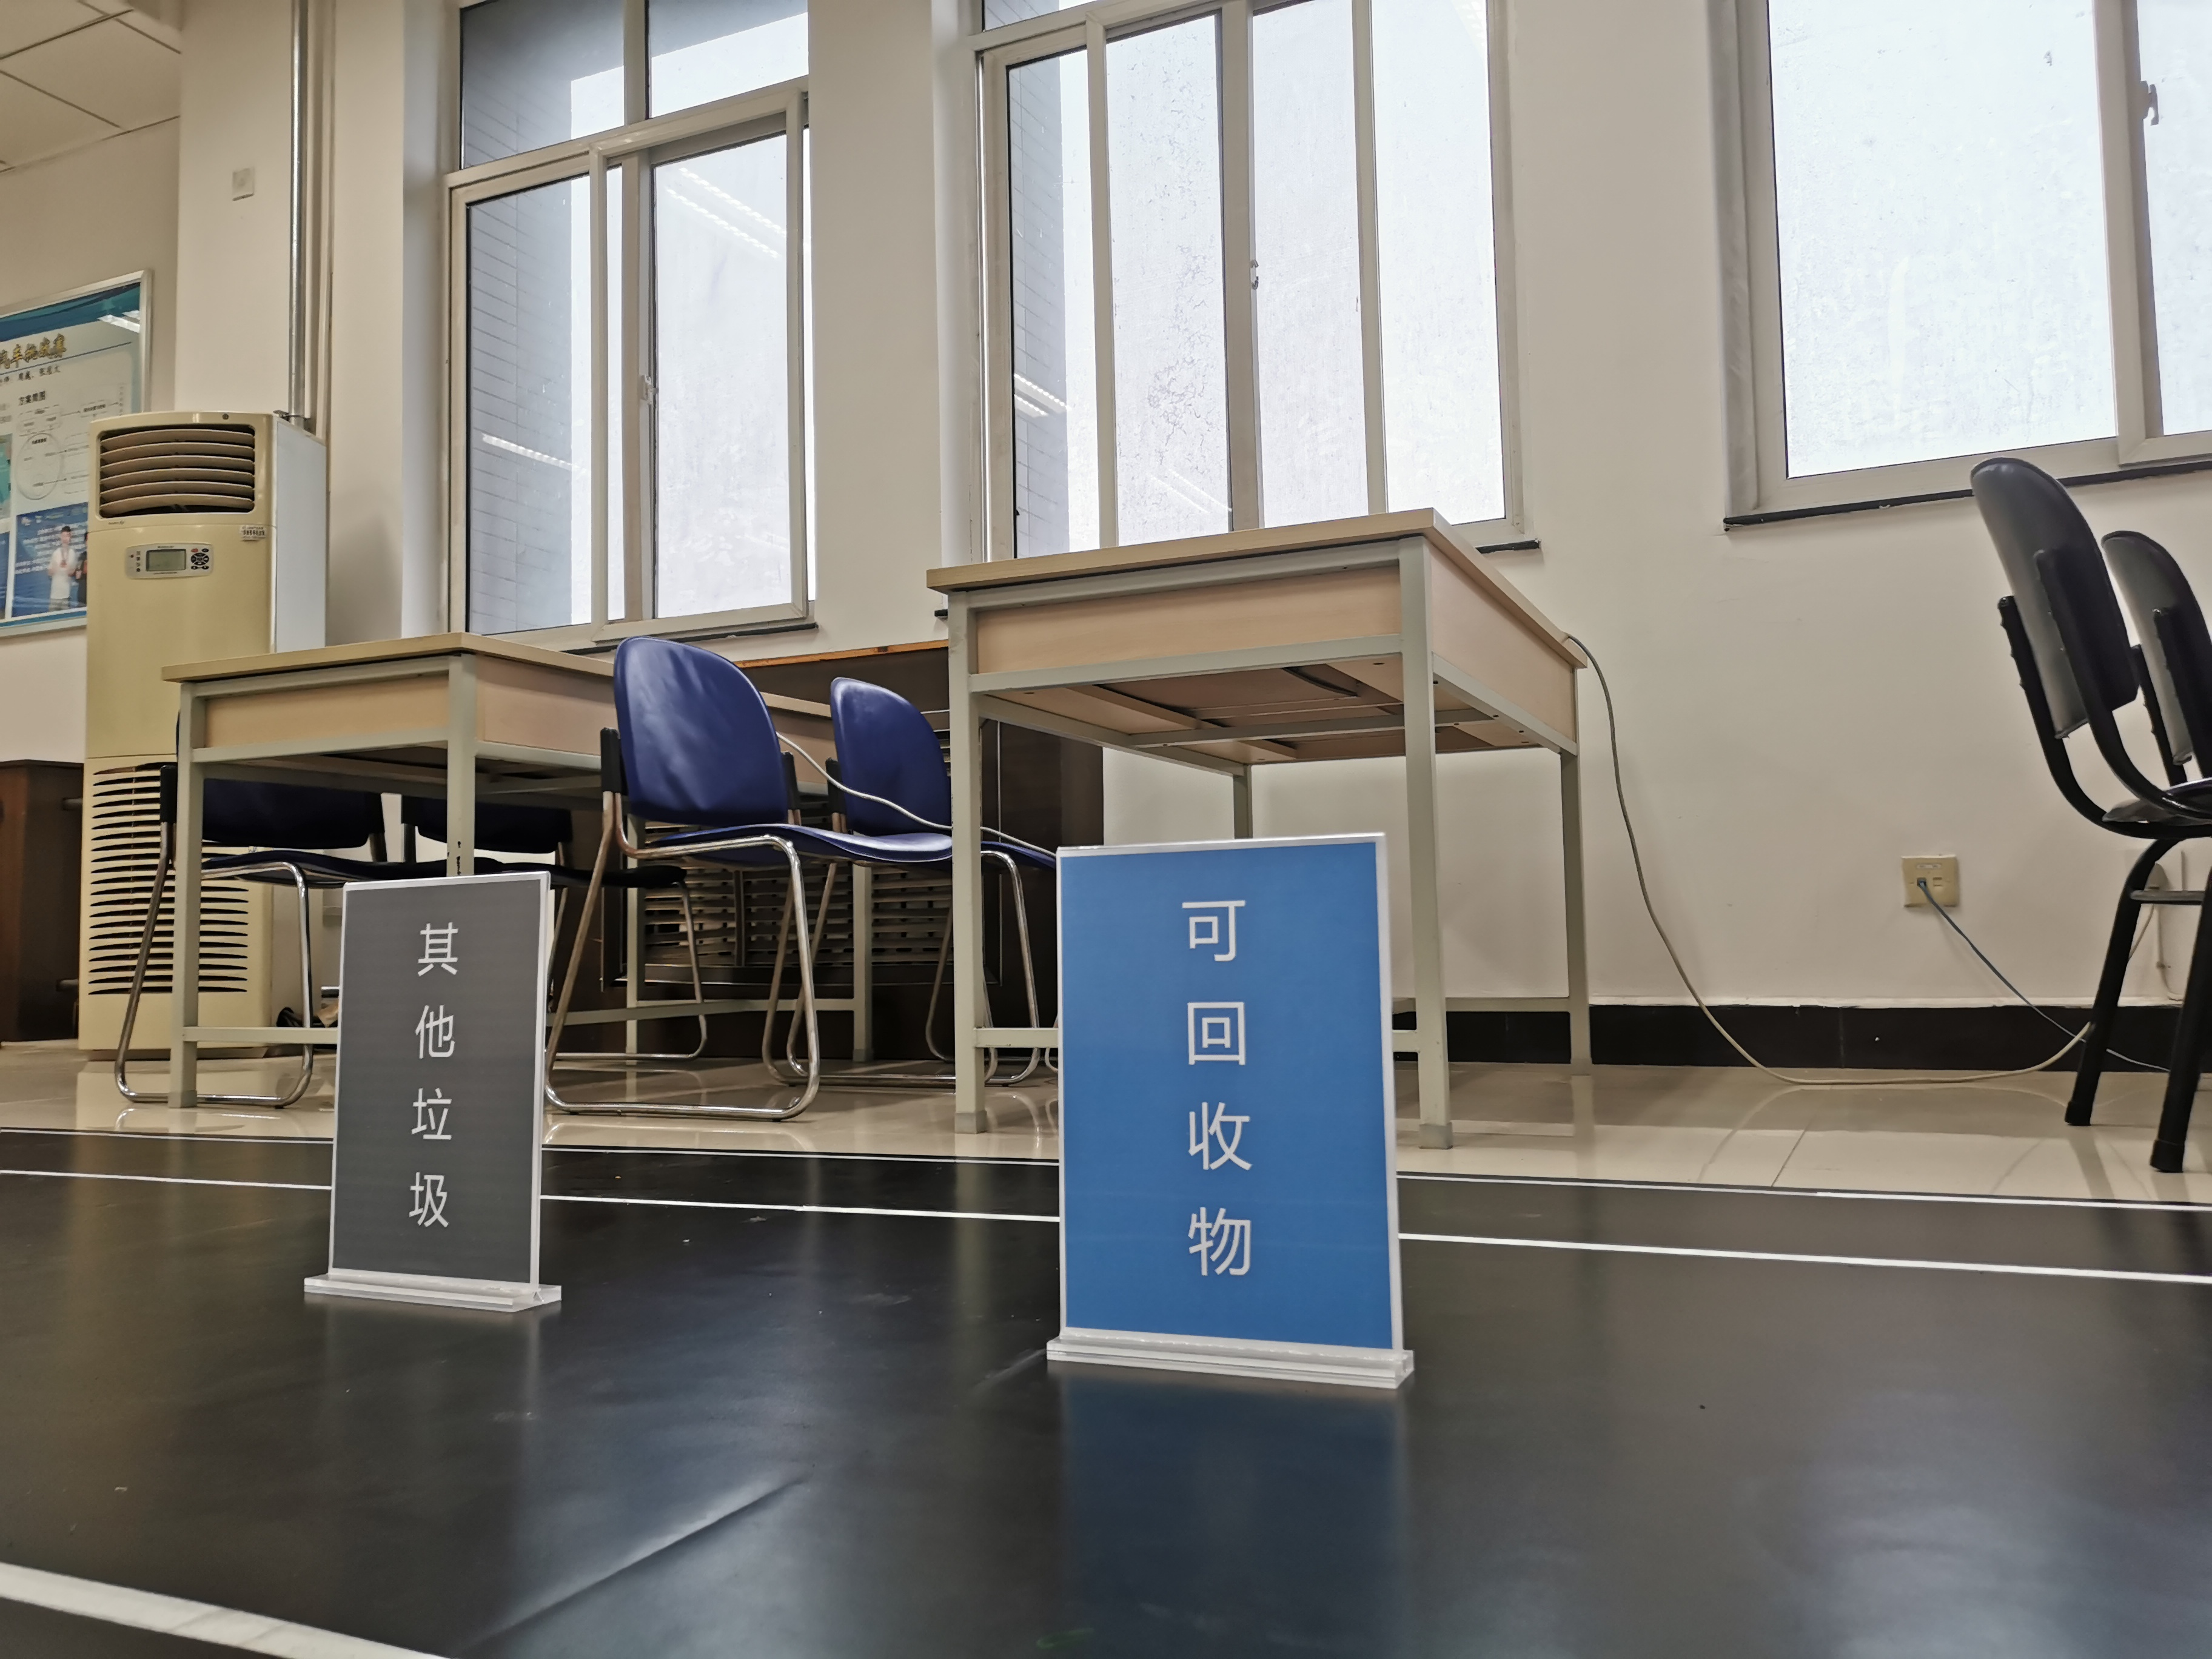black: (355, 896, 528, 1260)
blue: (1075, 870, 1372, 1324)
